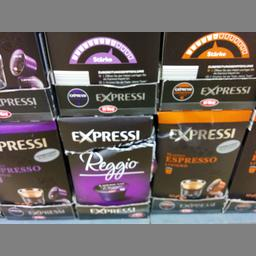coffee: (152, 108, 250, 210), (55, 113, 153, 202), (0, 120, 72, 205)
